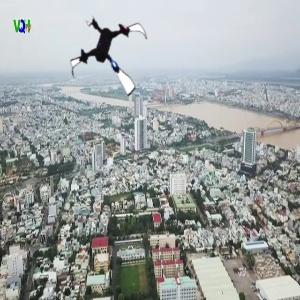drone: (67, 11, 157, 101)
